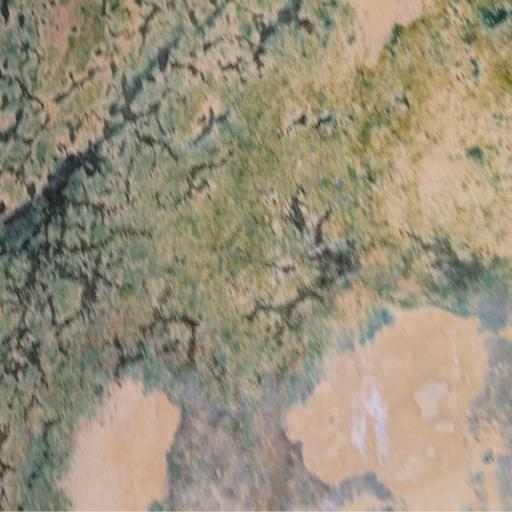algae: (0, 0, 482, 506)
